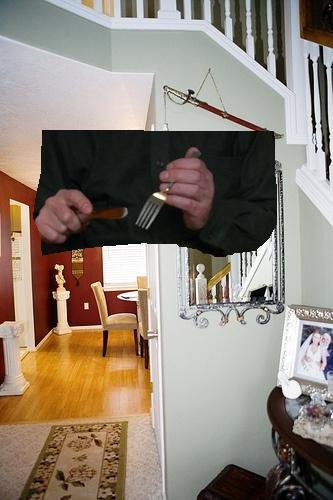tampered: (34, 131, 277, 257)
